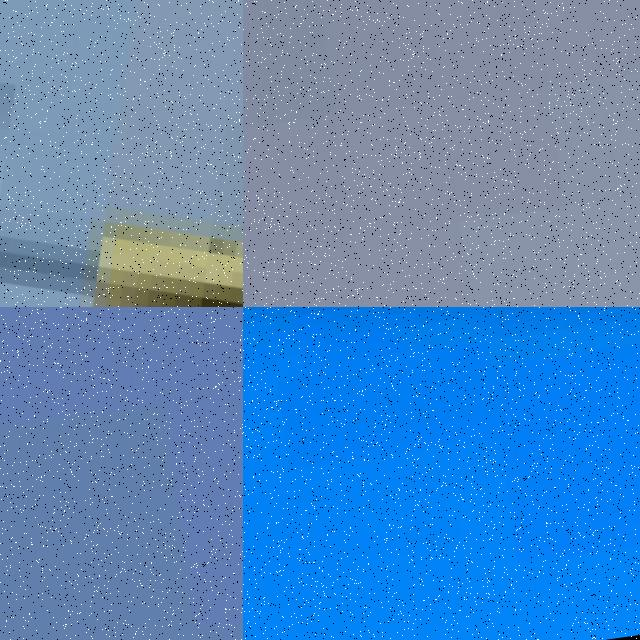drone: (0, 0, 243, 307)
